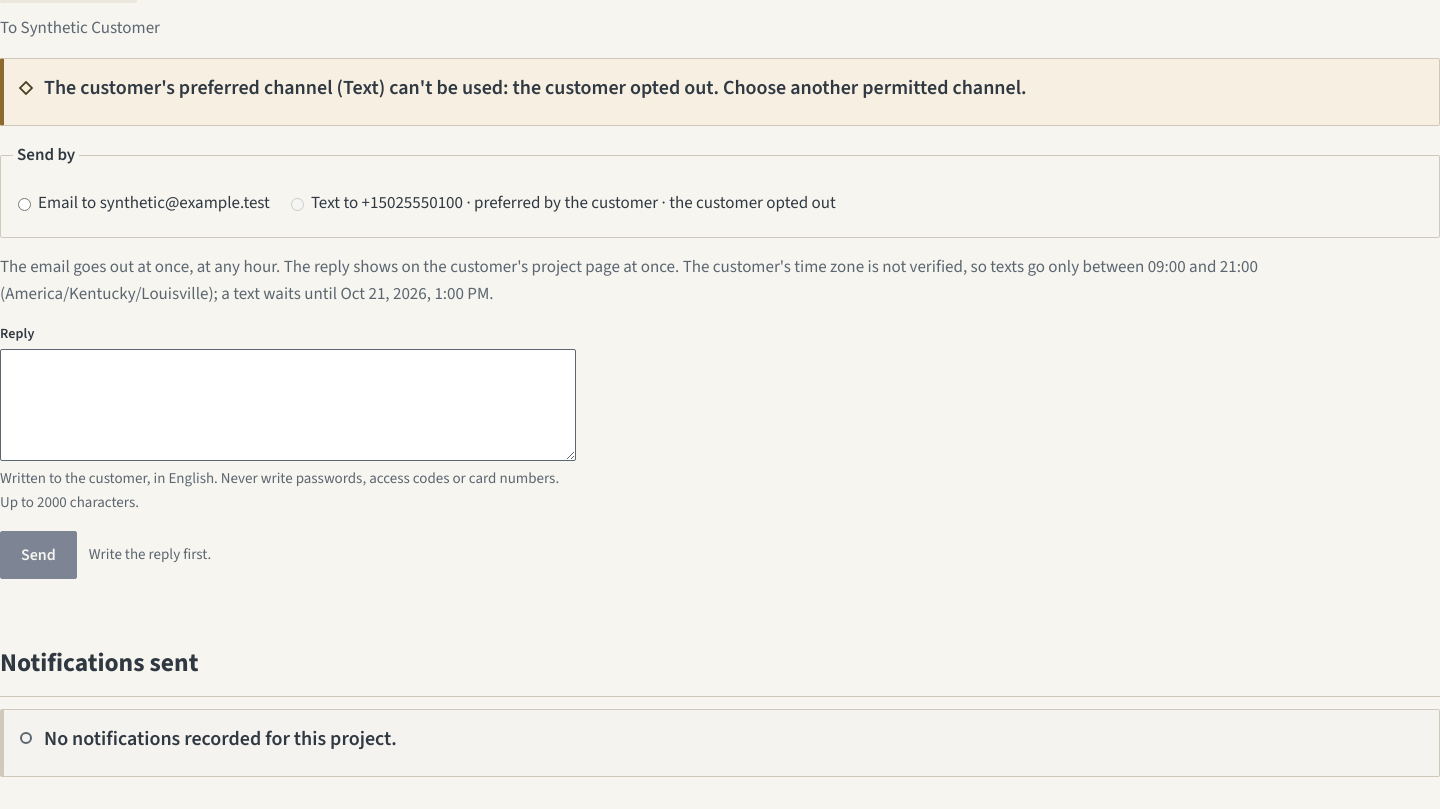
Test: the reply composer (TSK-0050, HH-COM-08, OWN-DEC-120) › [HH-COM-08][OWN-DEC-120] the preferred channel unavailable: staff choose a permitted one; nothing is picked for them
(page scrolled)
Check: the text "The customer's preferred channel (Text) can't be used: the customer opted out. Choose another permitted channel." is shown, box [44, 74, 1027, 102]
Check: the radio button labelled "Email to synthetic@example.test" is not checked, box [18, 198, 31, 211]
Step 1. Type "Synthetic reply." into the text box labelled "Reply" → (288, 405), box [0, 349, 576, 461]
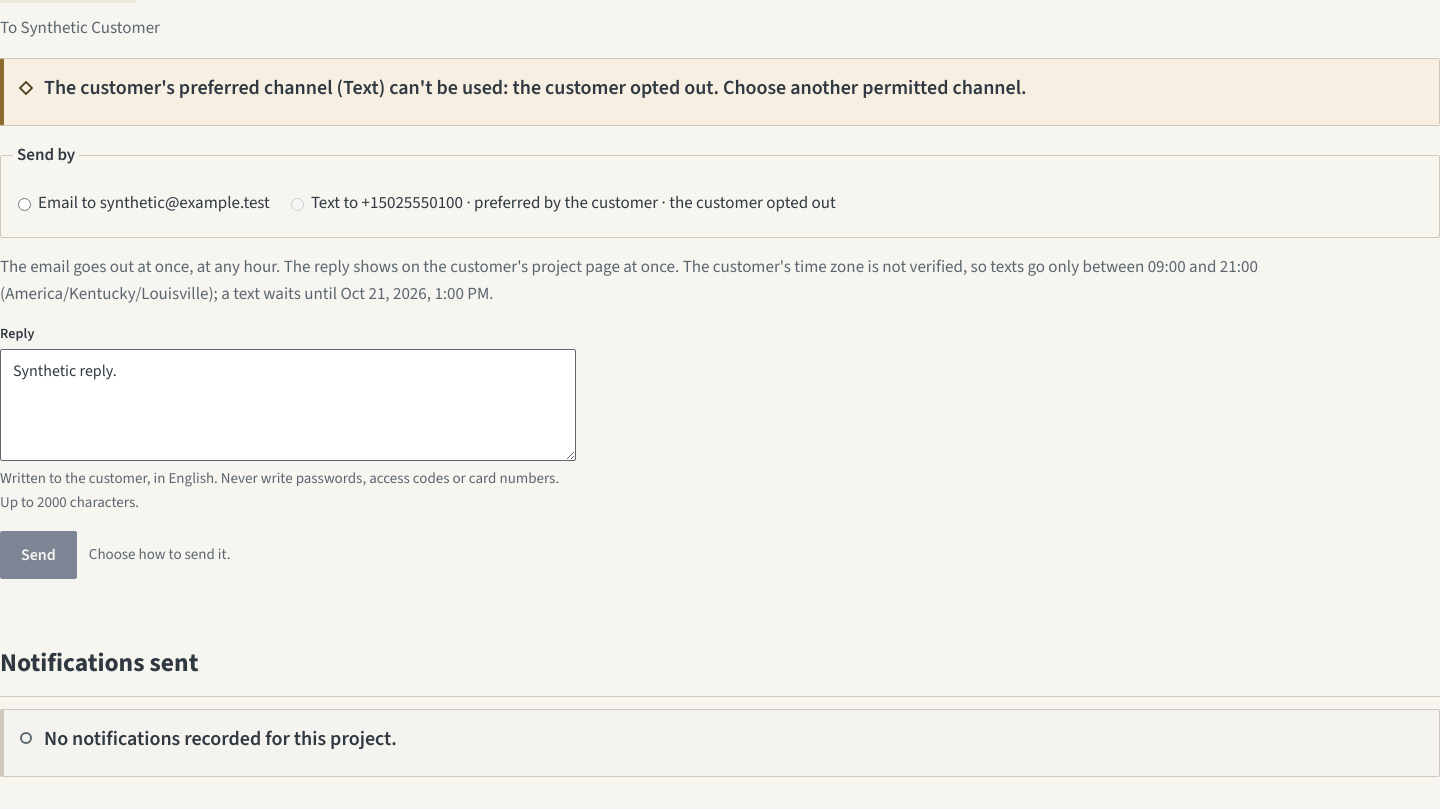
Check: the button "Choose how to send it." is shown, box [89, 543, 230, 567]
Step 2. Click the radio button labelled "Email to synthetic@example.test" → (24, 205), box [18, 198, 31, 211]
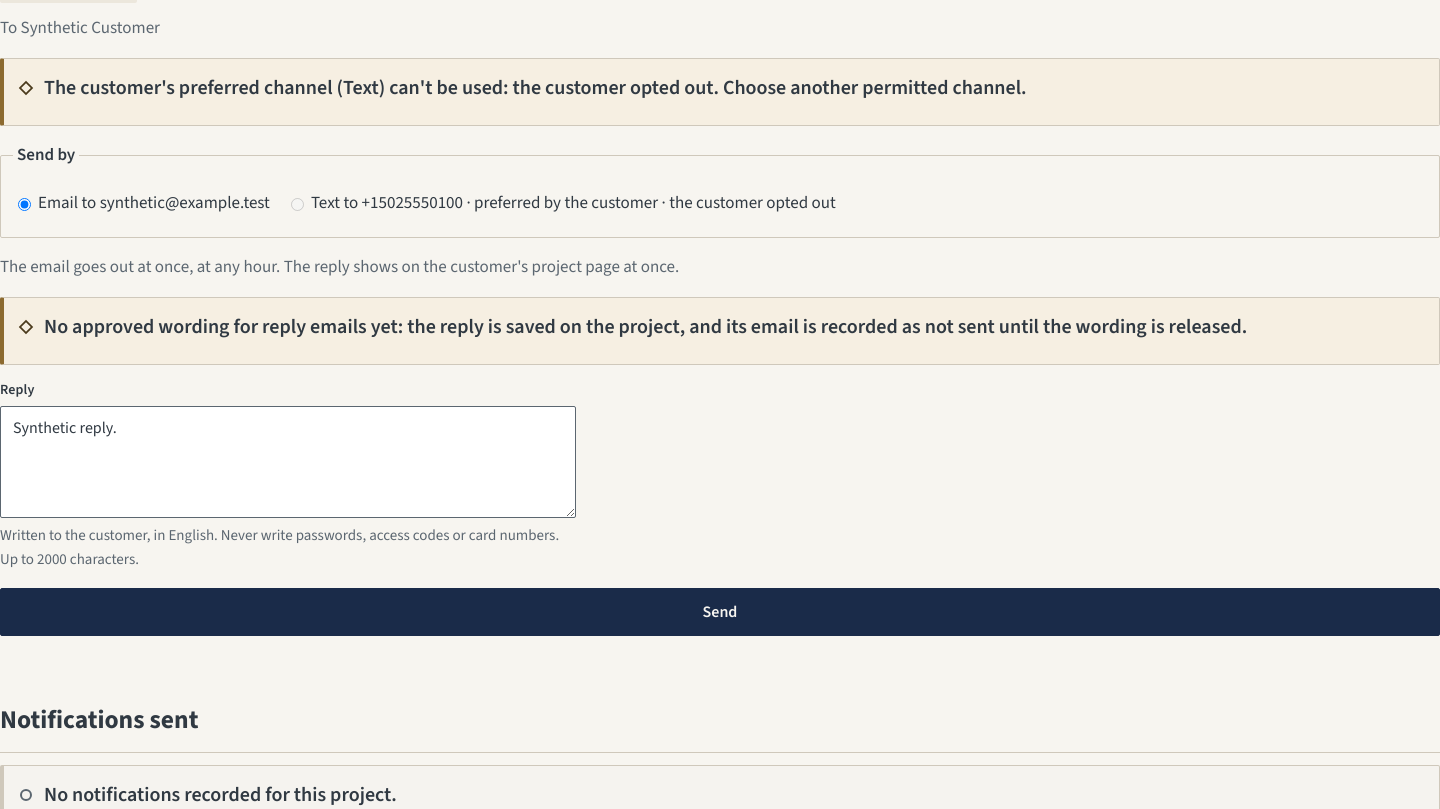
Check: the radio button labelled "Email to synthetic@example.test" is checked, box [18, 198, 31, 211]
Check: the button "Send" is enabled, box [0, 588, 1439, 636]
